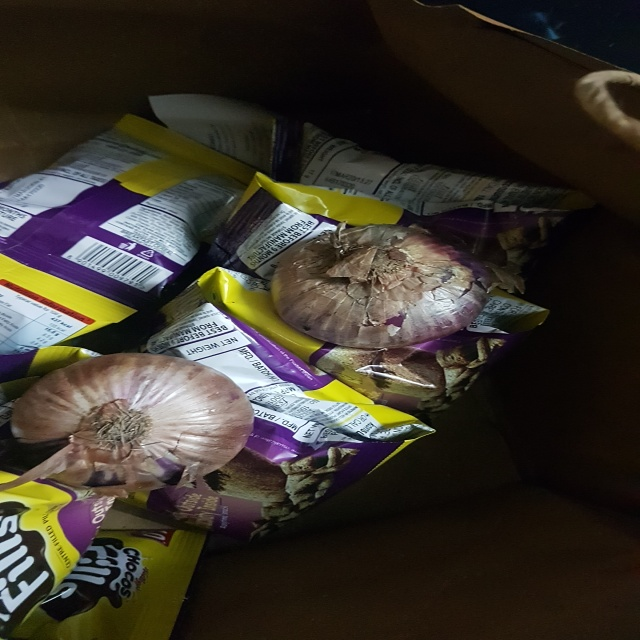onion: (10, 354, 260, 500), (261, 221, 497, 349)
